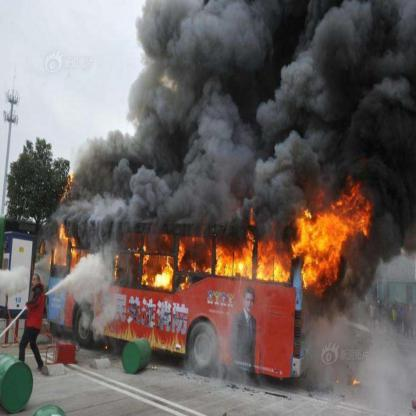fire: (296, 172, 382, 291), (193, 221, 296, 286), (114, 229, 191, 292), (49, 208, 87, 274)
smoke: (133, 0, 415, 214), (320, 220, 416, 409), (59, 128, 134, 228)
